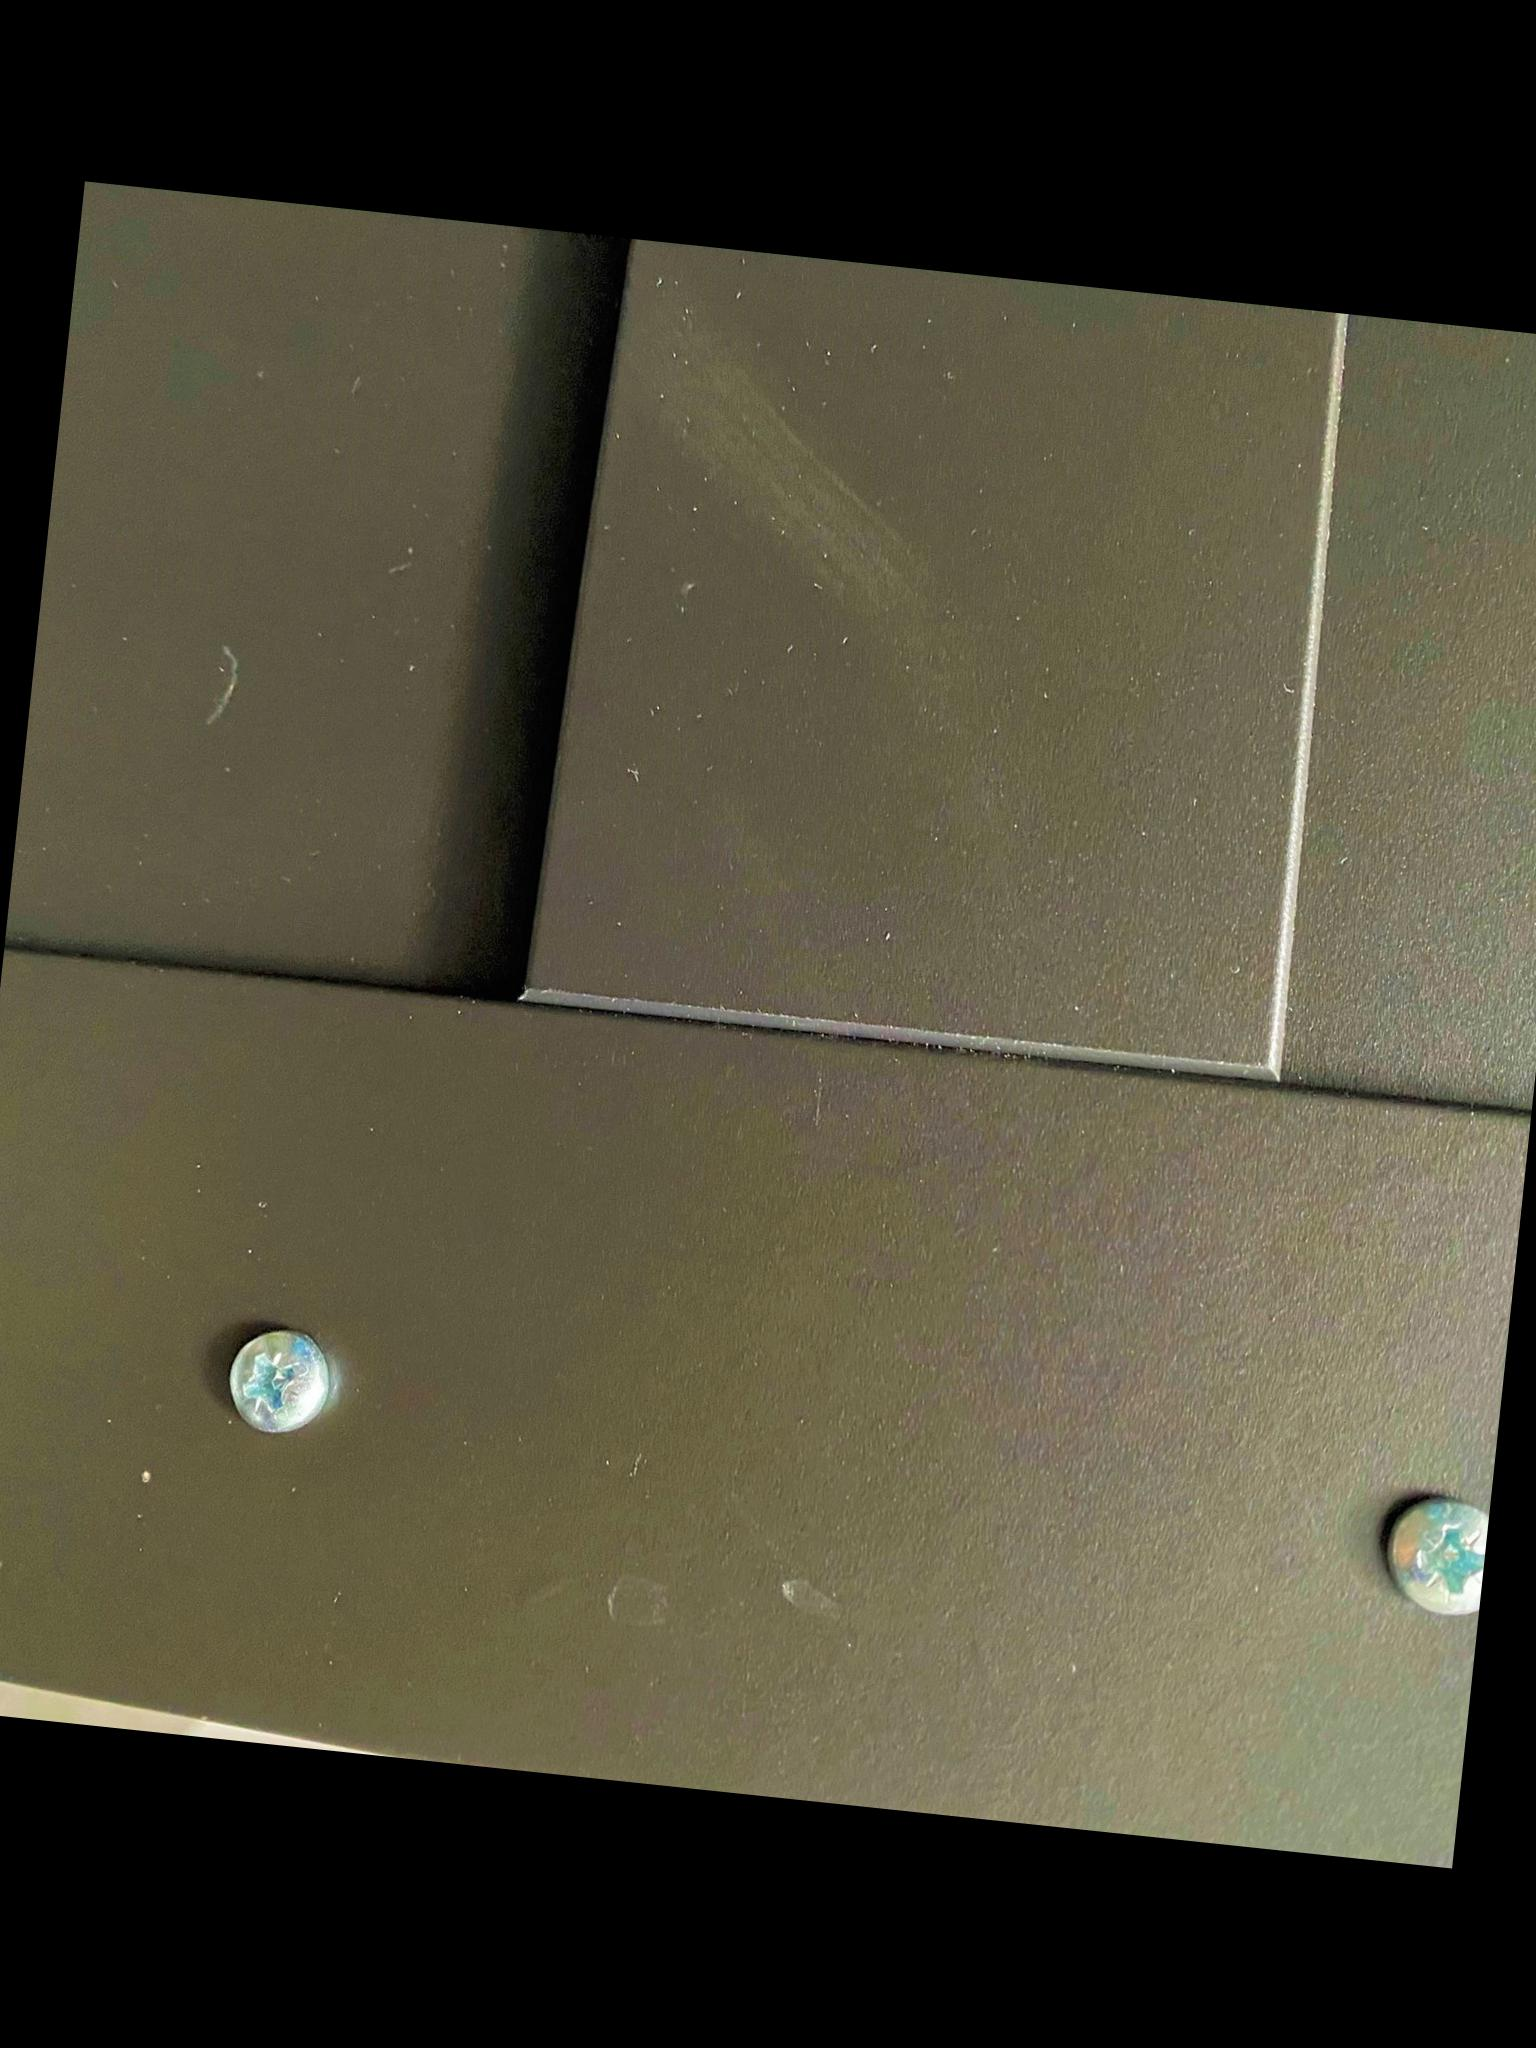PH: (218, 1324, 336, 1442), (1381, 1498, 1489, 1617)
